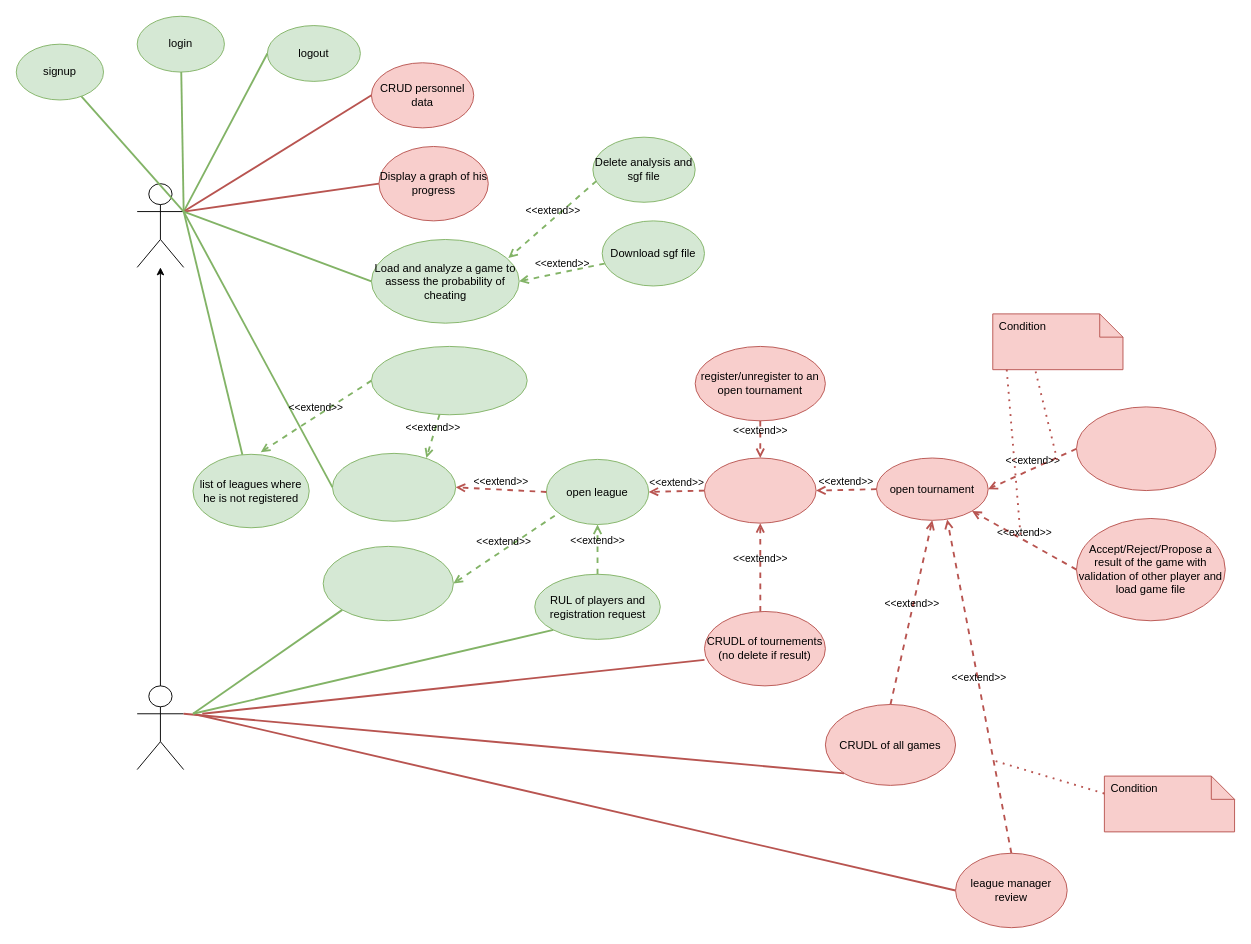
This 1251x944 diagram has some shape labels left out. Here are the shapes that lost their labels. From the top down, the centre of each, then its label:
At point (160, 225): "Players".
At point (1057, 341): "Tournament is open".
At point (449, 380): "register/unregister to an open league with validation of the league manager".
At point (1146, 448): "Accept/reject/propose schedule of next game.".
At point (394, 486): "list of leagues where he is registered".
At point (760, 490): "list of tournaments".
At point (387, 583): "List of his own leagues".
At point (160, 727): "League manager".
At point (1169, 803): "If a player reject result proposition".
